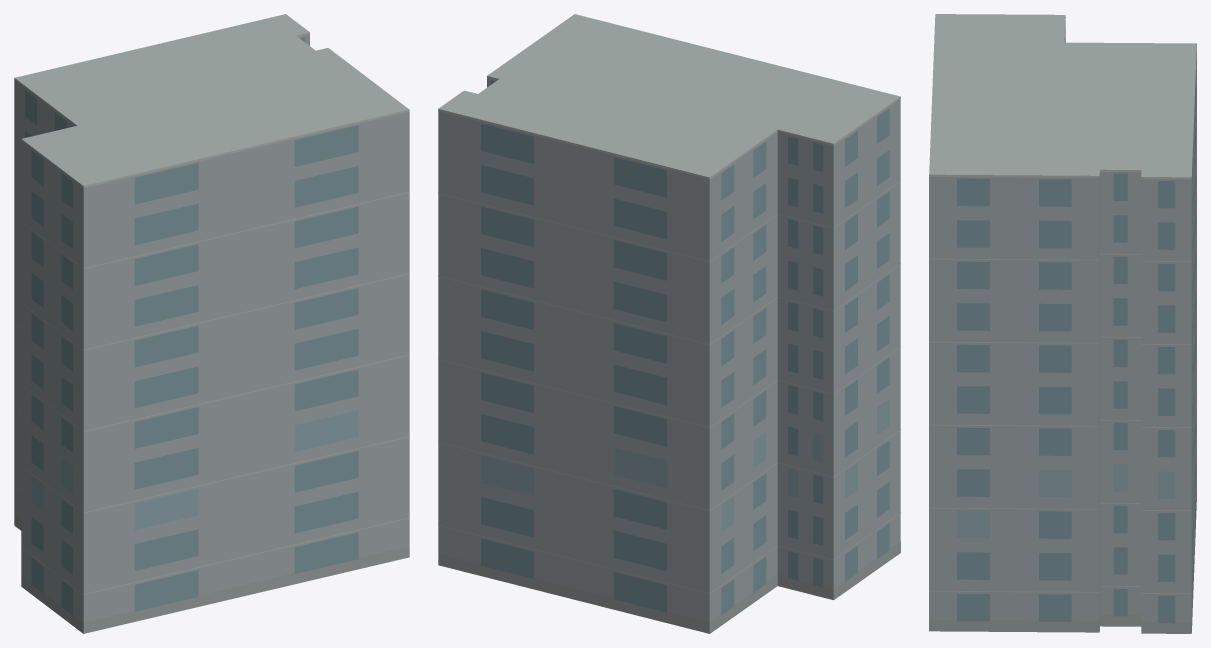
File: residential-62688581-4dc6-46d0-9861-419ff8aef3cc.glb
The picture shows the model from 3 angles, left to right: view 1: azimuth 30°, elevation 25°; view 2: azimuth 150°, elevation 25°; view 3: azimuth 270°, elevation 25°; orthographic projection.
Parts seen in each view (by area): view 1: residential-62688581-4dc6-46d0-9861-419ff8aef3cc.tmp; view 2: residential-62688581-4dc6-46d0-9861-419ff8aef3cc.tmp; view 3: residential-62688581-4dc6-46d0-9861-419ff8aef3cc.tmp.
Part boxes in pixels (bbox=[...]): residential-62688581-4dc6-46d0-9861-419ff8aef3cc.tmp: bbox=[14, 14, 409, 633]; residential-62688581-4dc6-46d0-9861-419ff8aef3cc.tmp: bbox=[438, 14, 900, 633]; residential-62688581-4dc6-46d0-9861-419ff8aef3cc.tmp: bbox=[929, 14, 1196, 633].
Size of the model in its own units: 39.13 by 51 by 27.12.
